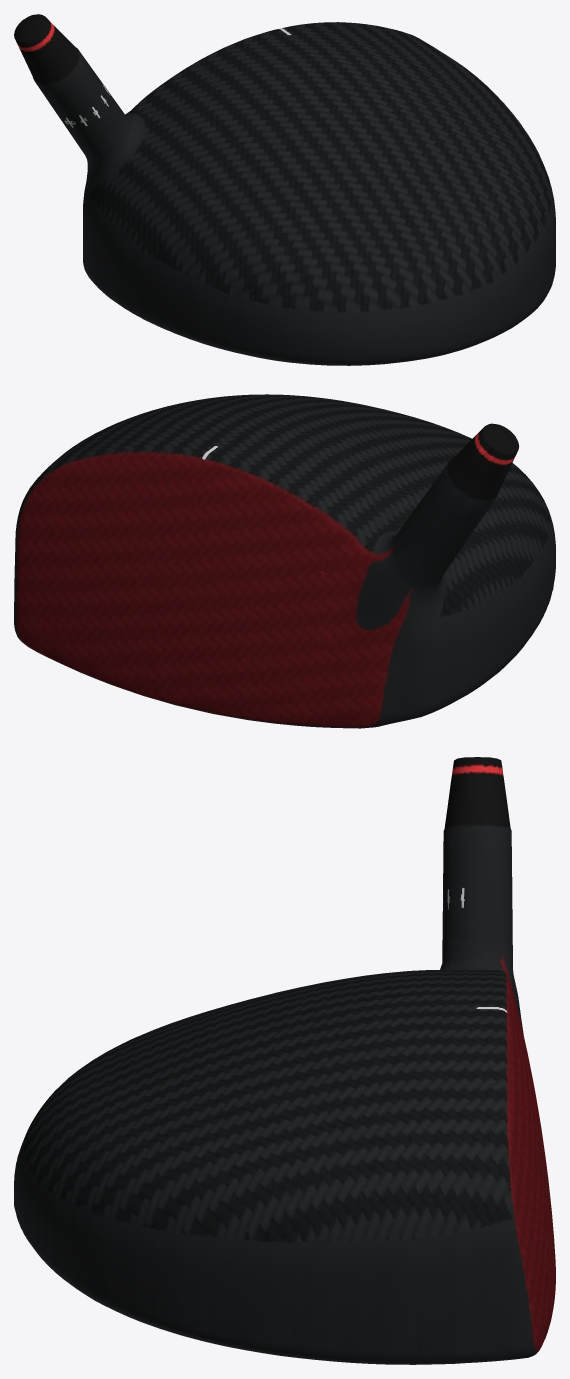
3 renders of one model, top to bottom at view 1: azimuth 30°, elevation 25°; view 2: azimuth 150°, elevation 25°; view 3: azimuth 270°, elevation 25°, orthographic. The views are drawn at different scales.
Parts seen in each view (by area): view 1: head; view 2: head; view 3: head.
Boxes of the visible parts, x1,y1,x2,y2 form: head: [14, 14, 555, 365]; head: [14, 394, 555, 728]; head: [14, 757, 555, 1364].
Bounding box in the file's own units: 0.1345 × 0.0835 × 0.1099.
Materials: 1 (1 with a texture image).
